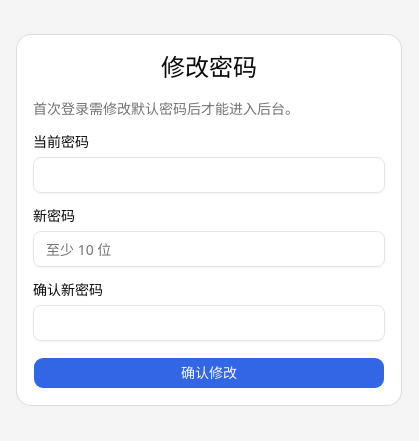
Test: ChangePasswordPage › T-F5: rejects when the two new passwords do not match
Step 1. Type "oldpassword" into the password field labelled "当前密码" → x=209, y=175, box [33,157,385,193]
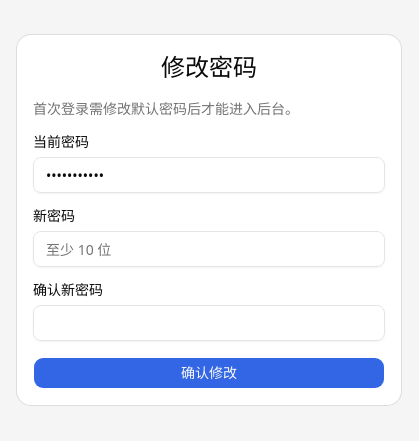
Step 2. Type "newpassword1" into the password field labelled "新密码" → x=209, y=249, box [33,231,385,267]
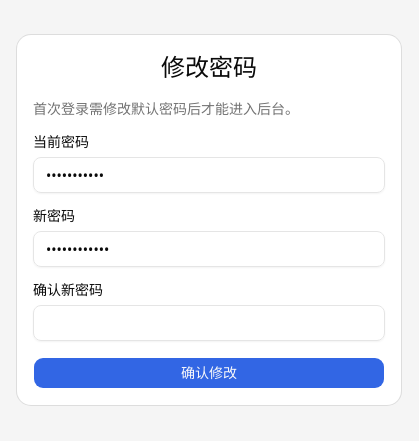
Step 3. Type "newpassword2" into the password field labelled "确认新密码" → x=209, y=323, box [33,305,385,341]
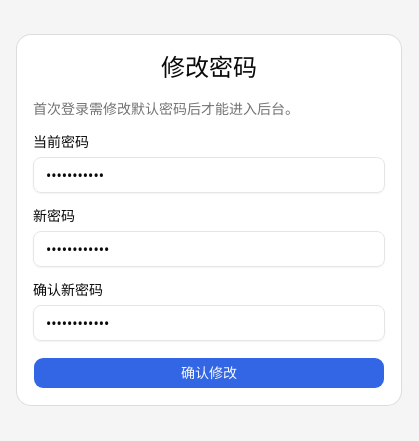
Step 4. Click the button "确认修改" → x=209, y=373, box [33,357,385,389]
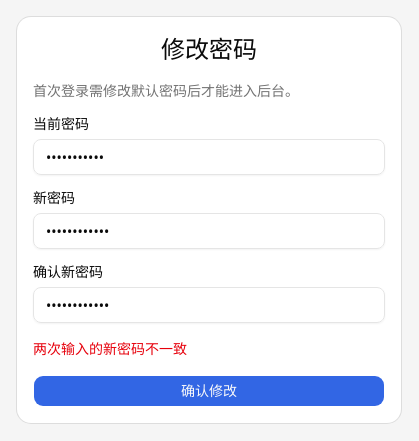
Result: the message reads "两次输入的新密码不一致" at [33,339,187,358]
